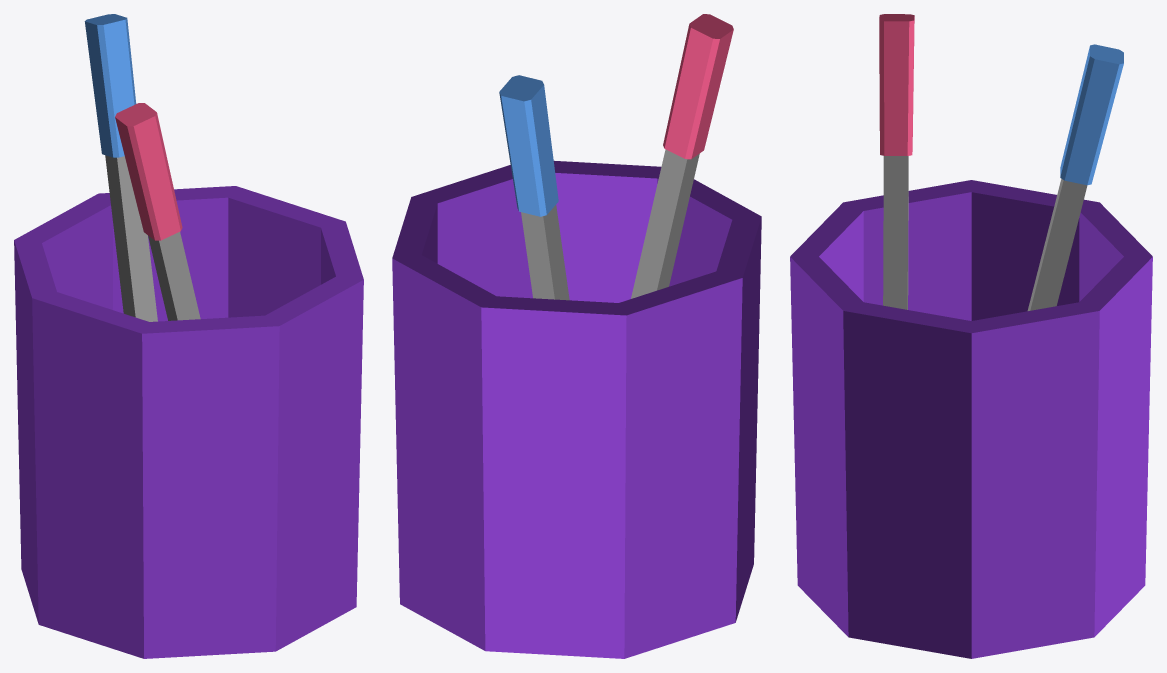
The model's file is Pen Holder.fbx.
3 renders of one model, left to right at view 1: azimuth 30°, elevation 25°; view 2: azimuth 150°, elevation 25°; view 3: azimuth 270°, elevation 25°, orthographic. The views are drawn at different scales.
Parts seen in each view (by area): view 1: Node 0; view 2: Node 0; view 3: Node 0.
Boxes of the visible parts, x1=… form: Node 0: x1=14, y1=14, x2=363, y2=658; Node 0: x1=392, y1=14, x2=761, y2=658; Node 0: x1=790, y1=14, x2=1152, y2=658.
Bounding box in the file's own units: 0.1448 × 0.2321 × 0.1448.
